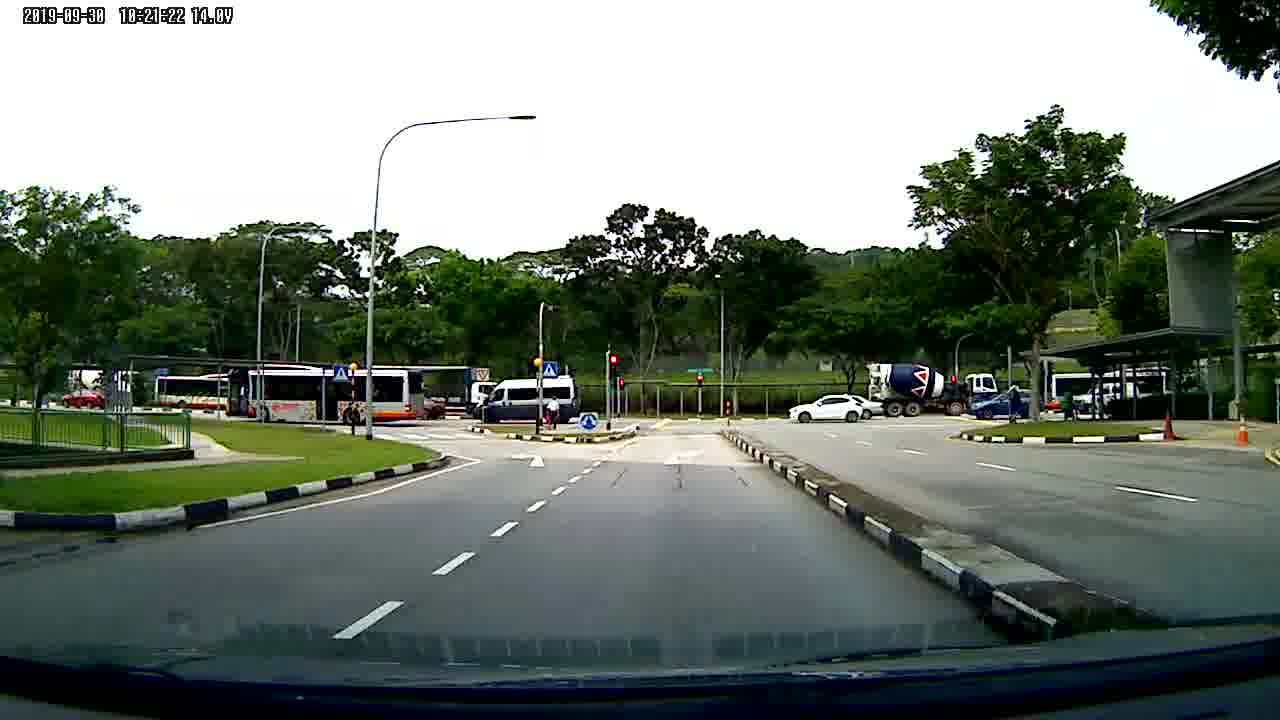bus: (227, 366, 427, 434), (147, 374, 231, 405)
car: (781, 396, 869, 430), (59, 390, 111, 405)
